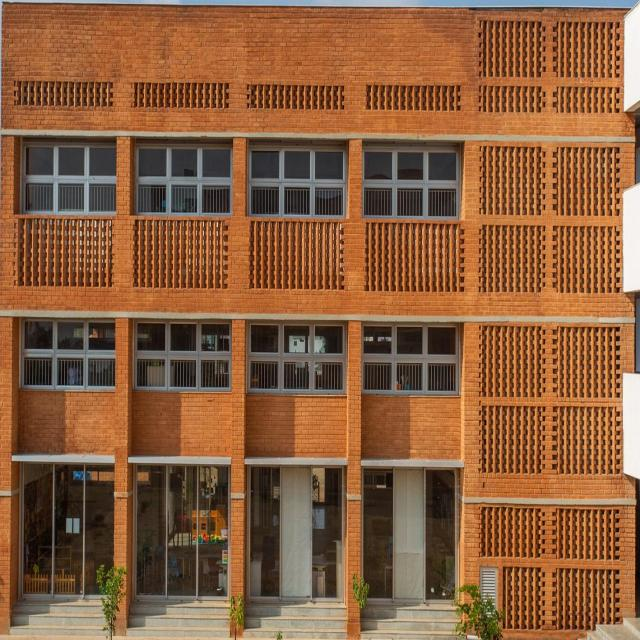Railing: (139, 178, 235, 215), (22, 352, 116, 388), (249, 362, 344, 395), (250, 184, 344, 214), (364, 189, 458, 218), (22, 182, 116, 210), (364, 361, 460, 388), (133, 358, 230, 384)
door: (363, 464, 461, 602), (137, 461, 232, 597), (252, 463, 348, 597), (23, 456, 115, 595)
wall: (3, 4, 640, 636)
windows: (22, 144, 115, 181), (248, 323, 344, 358), (250, 147, 344, 182), (134, 321, 230, 355), (137, 148, 229, 182), (364, 149, 458, 181), (363, 328, 457, 360), (22, 320, 116, 351)
